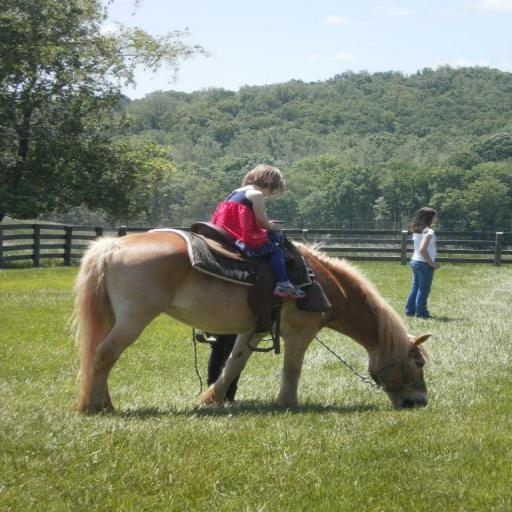horse: (63, 220, 440, 416)
